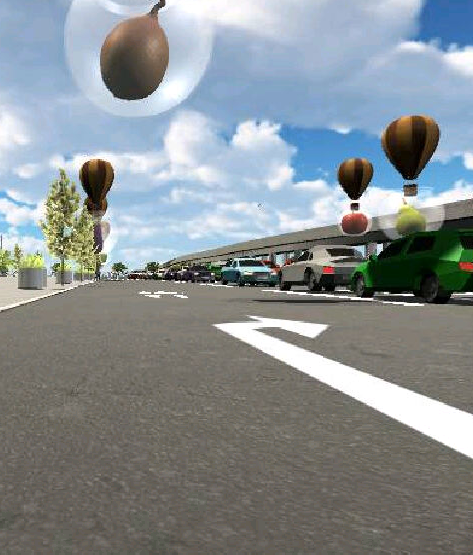ground_right: (209, 313, 331, 340)
